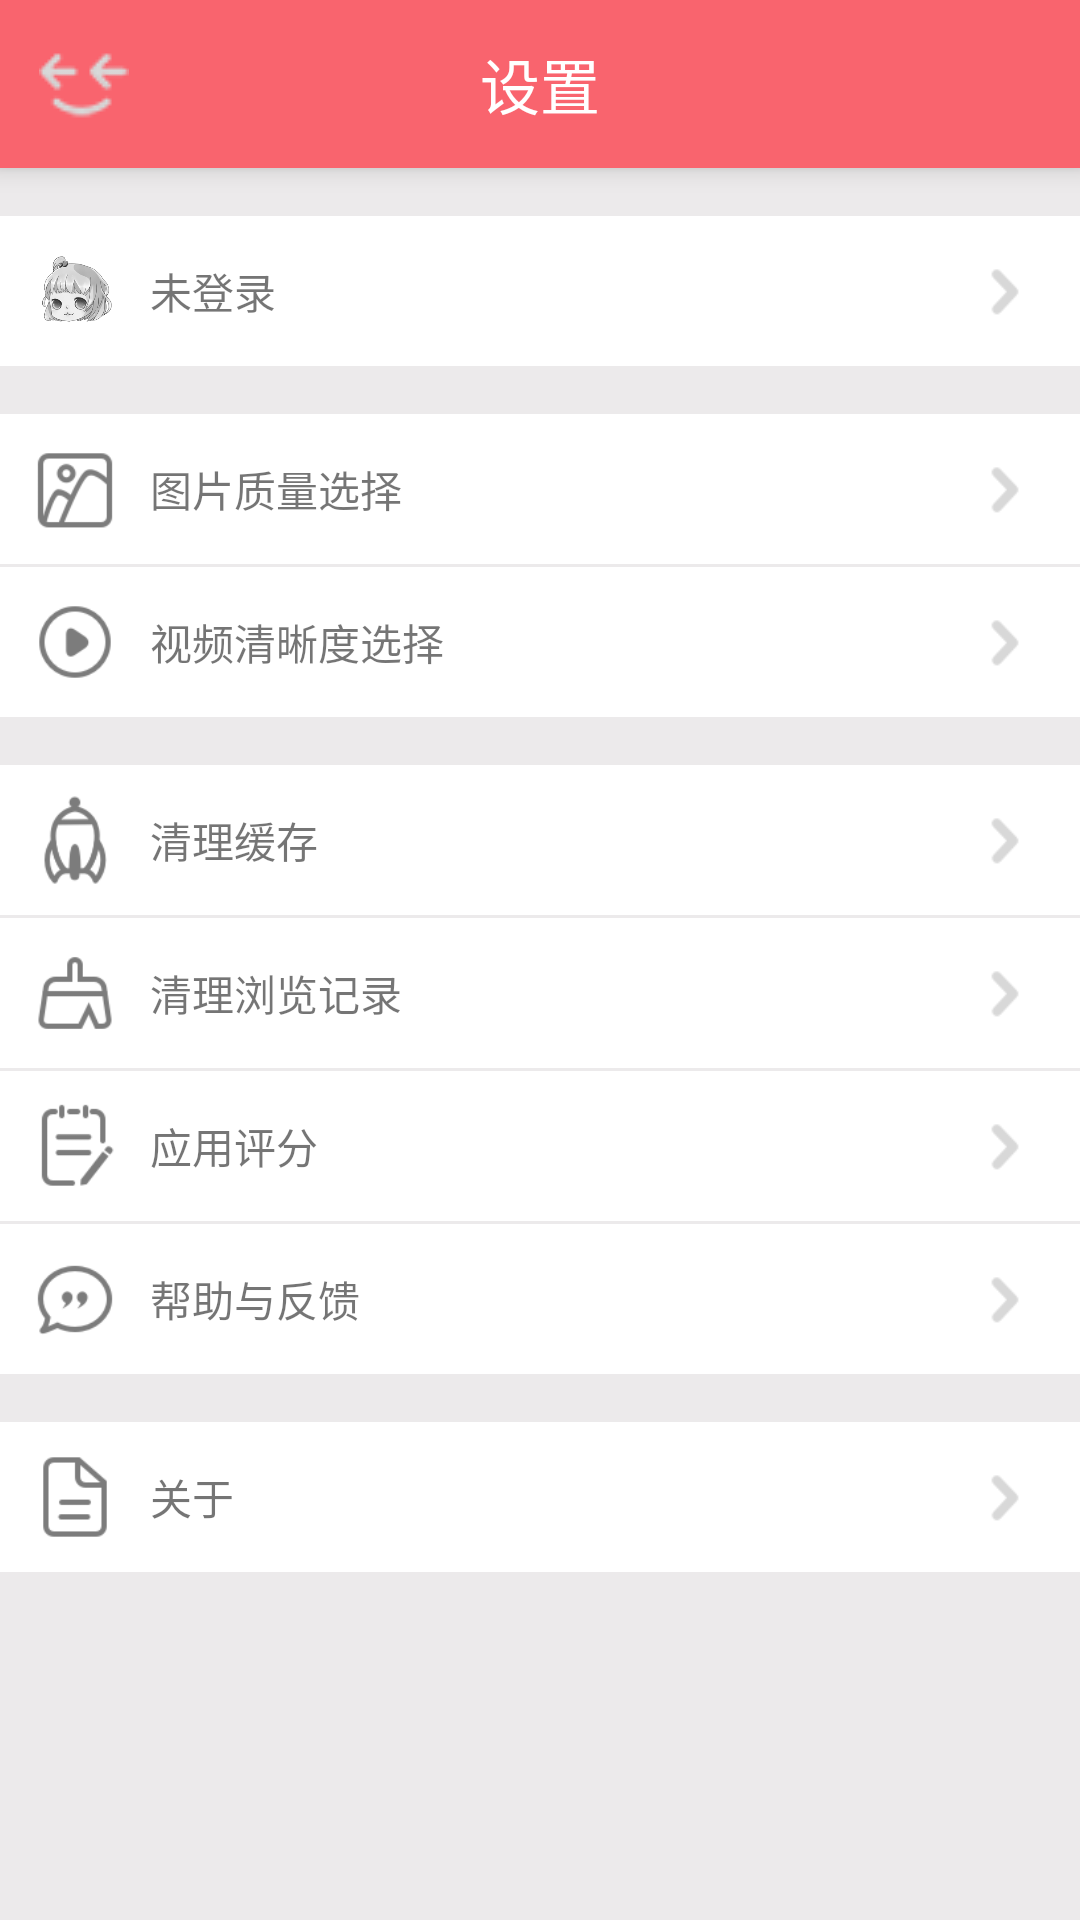

Icons on this 1080 × 1920 Android screen, each with the point to tap as (x=x, y=y):
list item narrow: (x=1005, y=292), (x=1005, y=490), (x=1005, y=643), (x=1005, y=841), (x=1005, y=994), (x=1005, y=1147), (x=1005, y=1300), (x=1005, y=1498)
set agreement: (x=75, y=1497)
set clearrecord: (x=75, y=993)
set feedback: (x=75, y=1300)
set score: (x=77, y=1145)
set video: (x=75, y=642)
